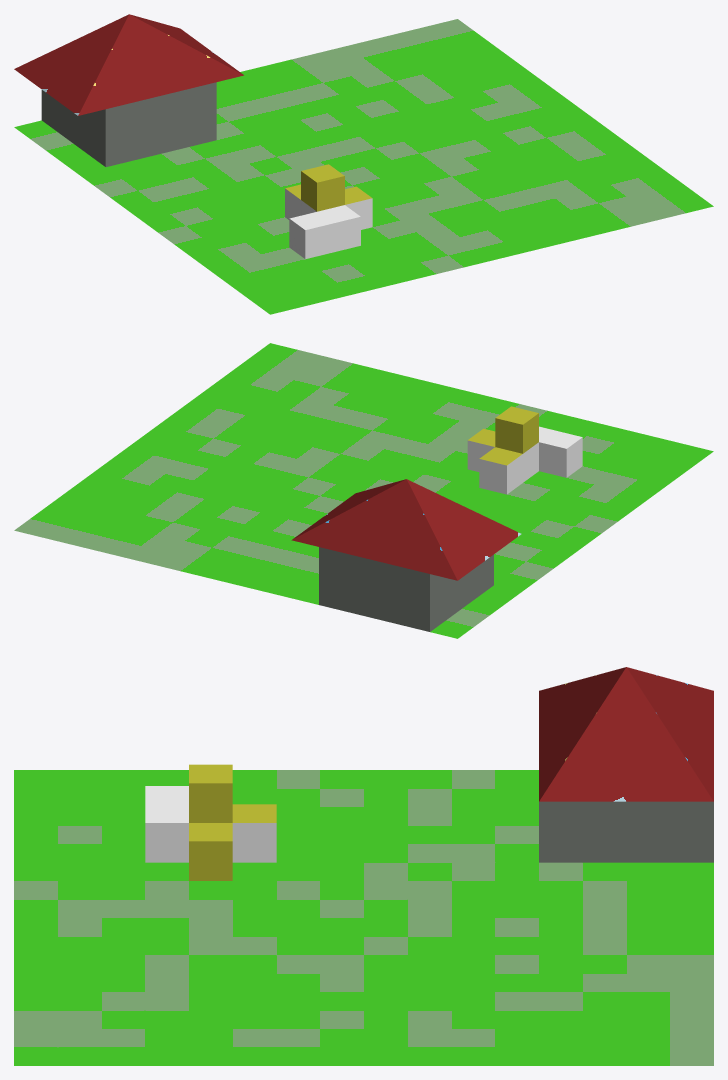
Rendered from farm.gltf.
3 views of the same model, one above another, from view 1: azimuth 30°, elevation 25°; view 2: azimuth 150°, elevation 25°; view 3: azimuth 270°, elevation 25° (orthographic). The views are drawn at different scales.
Parts seen in each view (by area): view 1: plane, pyramid, house, haystack1, haystack3 (×2), haystack2; view 2: plane, pyramid, house, haystack3 (×2), haystack1, haystack2; view 3: plane, pyramid, house, haystack3 (×2), haystack1, haystack2.
Part boxes in pixels (x1,y1,x2,y2): plane: [14, 19, 713, 314]; pyramid: [14, 14, 243, 115]; house: [41, 82, 216, 166]; haystack1: [289, 205, 360, 259]; haystack3 (×2): [285, 164, 344, 219]; haystack2: [301, 186, 372, 229]; plane: [14, 343, 713, 638]; pyramid: [291, 479, 521, 580]; house: [319, 547, 493, 631]; haystack3 (×2): [479, 406, 538, 494]; haystack1: [539, 426, 582, 477]; haystack2: [467, 428, 538, 482]; plane: [14, 770, 713, 1065]; pyramid: [539, 667, 713, 801]; house: [539, 801, 713, 862]; haystack3 (×2): [189, 764, 276, 862]; haystack1: [145, 786, 188, 862]; haystack2: [189, 823, 232, 880].
Bounding box in the file's own units: 1 × 0.25 × 1.
5 materials, 4 textured.
